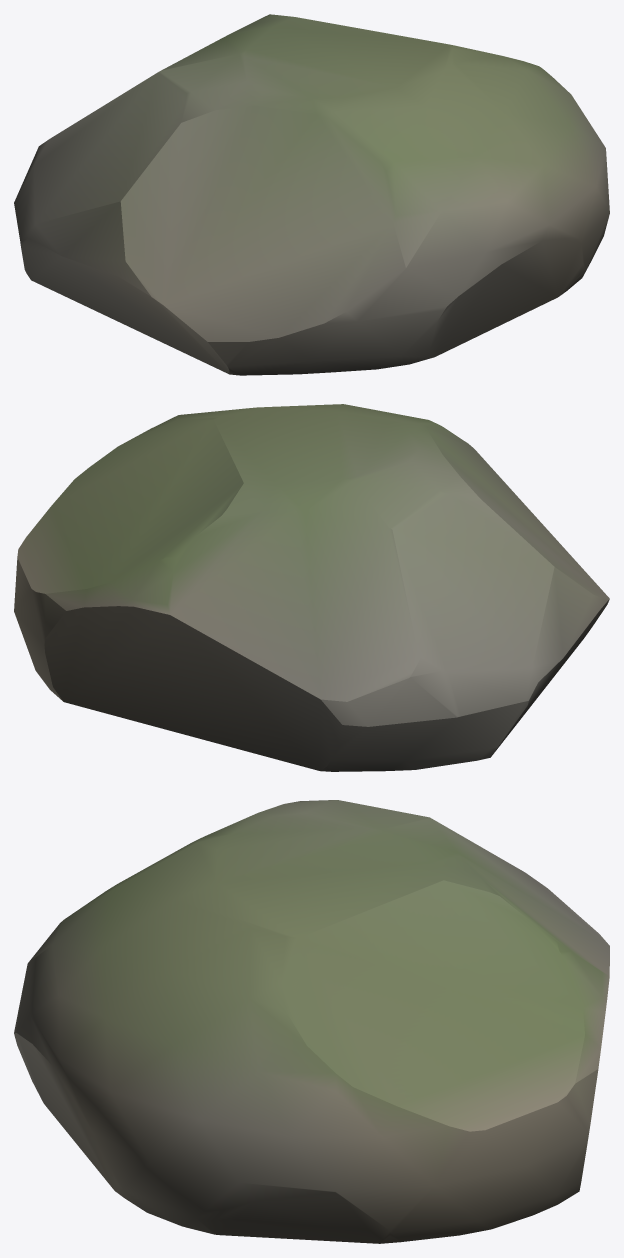
The model's file is rock_b.glb.
3 renders of one model, top to bottom at view 1: azimuth 30°, elevation 25°; view 2: azimuth 150°, elevation 25°; view 3: azimuth 270°, elevation 25°, orthographic. The views are drawn at different scales.
Parts seen in each view (by area): view 1: rock_b; view 2: rock_b; view 3: rock_b.
Part boxes in pixels (x1,y1,x2,y2): rock_b: [14, 14, 609, 375]; rock_b: [14, 404, 609, 771]; rock_b: [14, 800, 609, 1243].
Size of the model in its own units: 0.9052 by 0.3524 by 0.7697.
